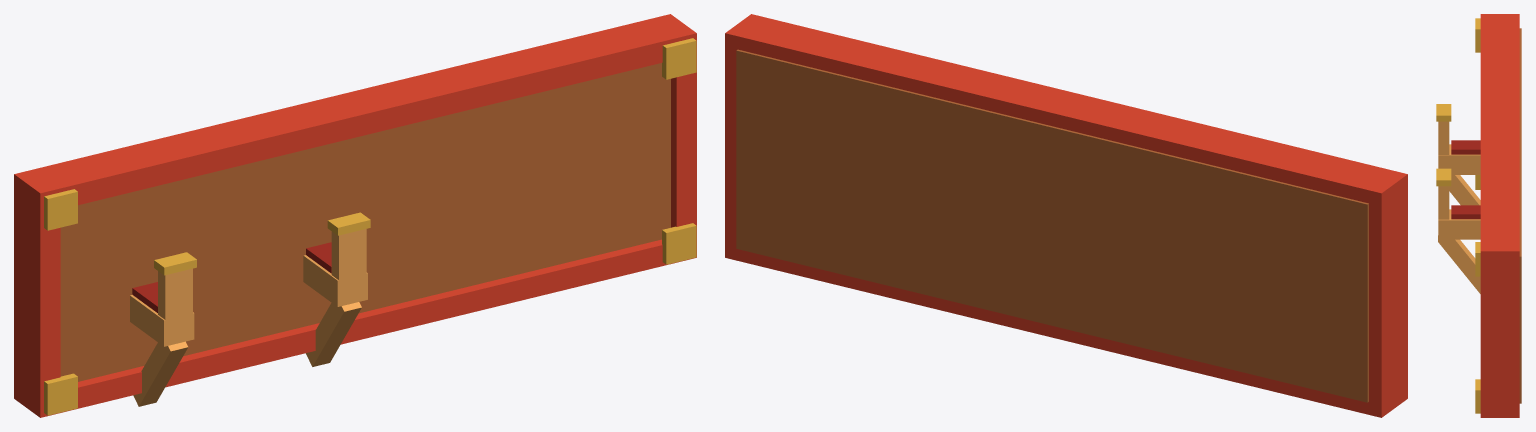
Rendered from WallSwordHolder.fbx.
3 views of the same model, side by side, from view 1: azimuth 30°, elevation 25°; view 2: azimuth 150°, elevation 25°; view 3: azimuth 270°, elevation 25° (orthographic). The views are drawn at different scales.
Visible parts, largest first — view 1: WallSwordHolder_fd_wood_dk, WallSwordHolder_fd_red, WallSwordHolder_fd_wood, WallSwordHolder_gold, WallSwordHolder_fd_red_dk; view 2: WallSwordHolder_fd_wood_dk, WallSwordHolder_fd_red; view 3: WallSwordHolder_fd_red, WallSwordHolder_fd_wood, WallSwordHolder_gold, WallSwordHolder_fd_wood_dk, WallSwordHolder_fd_red_dk.
Part boxes in pixels (<box>): WallSwordHolder_fd_wood_dk: <box>60,63,670,381</box>; WallSwordHolder_fd_red: <box>14,14,696,417</box>; WallSwordHolder_fd_wood: <box>130,229,367,406</box>; WallSwordHolder_gold: <box>44,38,696,415</box>; WallSwordHolder_fd_red_dk: <box>132,242,331,312</box>; WallSwordHolder_fd_wood_dk: <box>736,49,1368,402</box>; WallSwordHolder_fd_red: <box>725,14,1407,417</box>; WallSwordHolder_fd_red: <box>1480,14,1519,417</box>; WallSwordHolder_fd_wood: <box>1438,121,1480,293</box>; WallSwordHolder_gold: <box>1436,18,1480,413</box>; WallSwordHolder_fd_wood_dk: <box>1519,28,1521,403</box>; WallSwordHolder_fd_red_dk: <box>1451,140,1480,219</box>.
Size of the model in its own units: 5.2 by 1.84 by 0.79.
